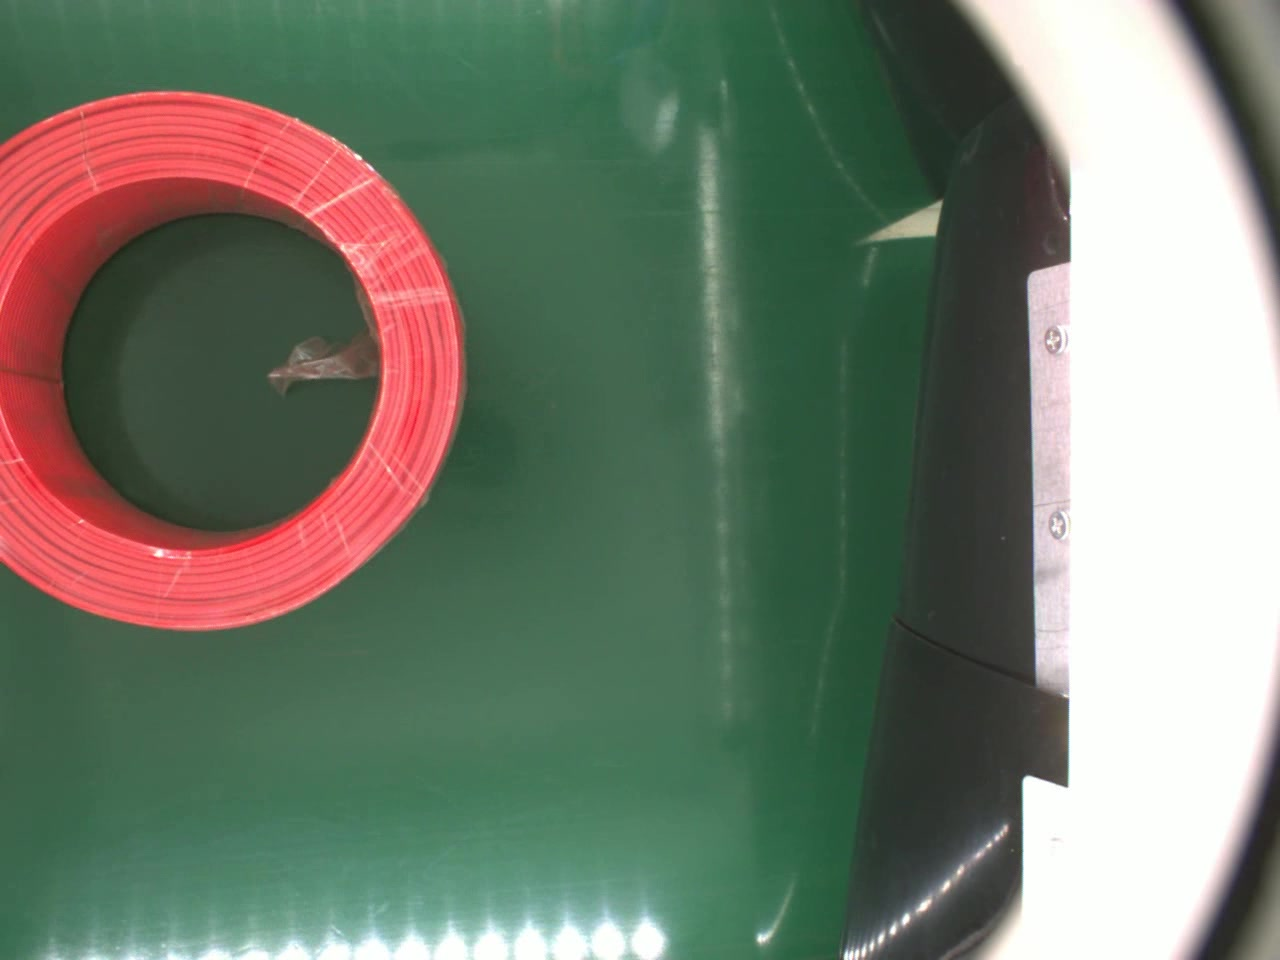red: (0, 90, 464, 635)
